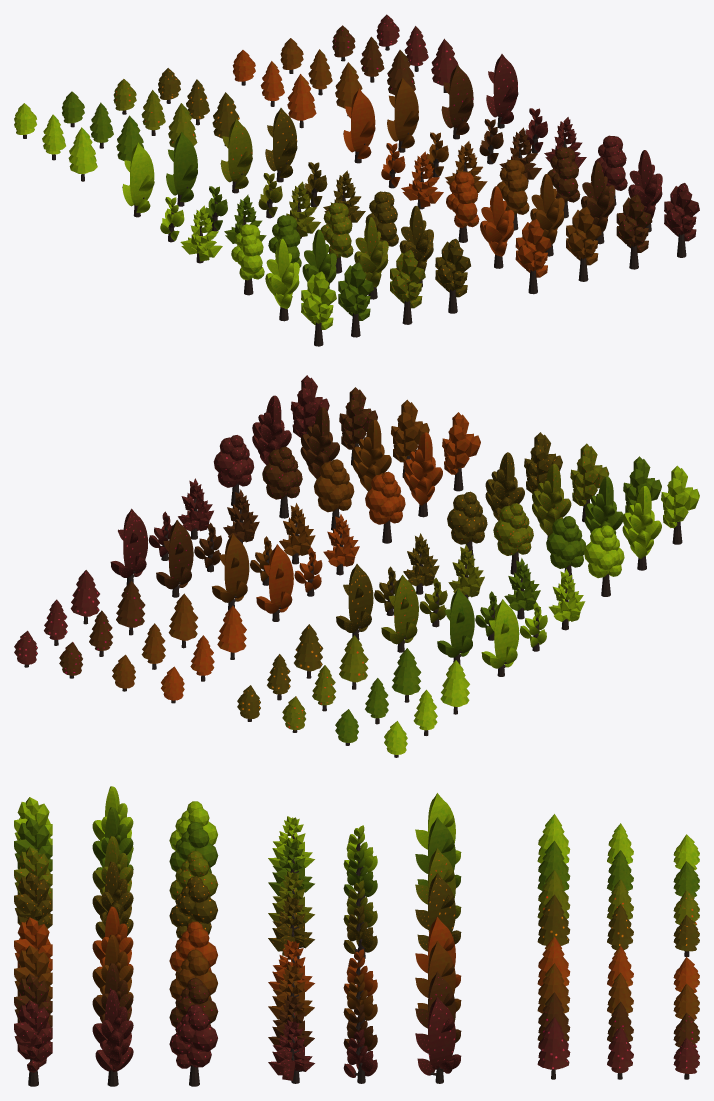
Rendered from trees.fbx.
3 views of the same model, one above another, from view 1: azimuth 30°, elevation 25°; view 2: azimuth 150°, elevation 25°; view 3: azimuth 270°, elevation 25° (orthographic). The views are drawn at different scales.
Visible parts, largest first — view 1: Sphere.003, Sphere.016, Icosphere.128, Icosphere.138, Icosphere.132, Icosphere.121, Icosphere.140, Icosphere.130, Icosphere.134, Icosphere.136, Icosphere.102, Icosphere.092 (+60 smaller); view 2: Sphere.016, Sphere.003, Icosphere.127, Icosphere.139, Icosphere.135, Icosphere.131, Icosphere.137, Icosphere.141, Icosphere.094, Icosphere.102, Icosphere.089, Icosphere.098 (+56 smaller); view 3: Sphere.006, Icosphere.141, Icosphere.104, Icosphere.140, Icosphere.133, Sphere.002, Icosphere.096, Cube.013, Icosphere.132, Cube.009, Icosphere.129, Cylinder.033 (+60 smaller).
Boxes of the visible parts, x1,y1,x2,y2 form: Sphere.003: (480,186,514,268); Sphere.016: (265,238,299,321); Icosphere.128: (338,262,373,337); Icosphere.138: (616,194,652,269); Icosphere.132: (435,238,470,313); Icosphere.121: (301,271,336,346); Icosphere.140: (664,183,699,257); Icosphere.130: (390,249,425,324); Icosphere.134: (515,219,551,294); Icosphere.136: (566,206,601,281); Icosphere.102: (441,64,473,139); Icosphere.092: (166,132,197,206); Sphere.016: (622,486,661,570); Sphere.003: (403,432,442,517); Icosphere.127: (584,525,624,596); Icosphere.139: (262,446,302,518); Icosphere.135: (365,471,405,543); Icosphere.131: (493,503,533,574); Icosphere.137: (314,459,354,530); Icosphere.141: (213,435,254,505); Icosphere.094: (381,575,418,652); Icosphere.102: (156,520,193,597); Icosphere.089: (481,599,519,676); Icosphere.098: (256,544,293,621); Sphere.006: (92,989,133,1086); Icosphere.141: (169,1004,217,1086); Icosphere.104: (415,996,461,1083); Icosphere.140: (14,1000,52,1086); Icosphere.133: (169,876,217,938); Sphere.002: (92,861,133,939); Icosphere.096: (415,873,461,951); Cube.013: (268,1020,314,1083); Icosphere.132: (14,872,52,928); Cube.009: (268,896,314,959); Icosphere.129: (169,822,218,872); Cylinder.033: (537,1017,570,1079).
Bounding box in the file's own units: 2192 × 424 × 2825.
